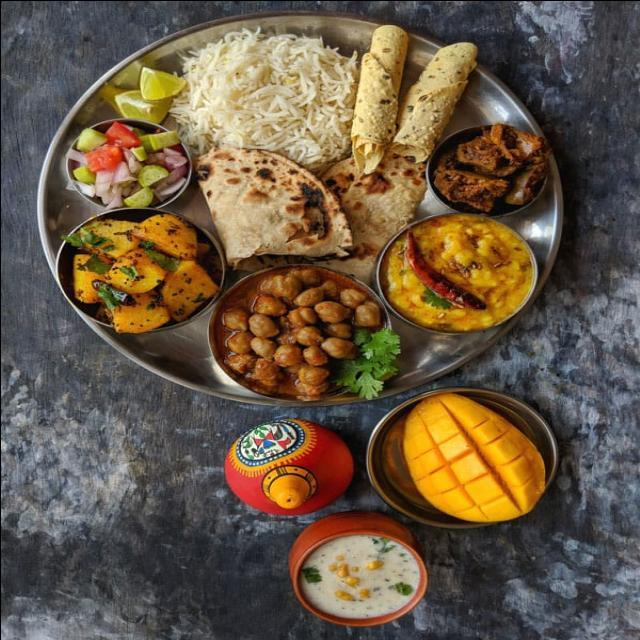dal: (380, 208, 542, 334)
rice: (180, 28, 358, 160)
roti: (188, 147, 357, 259)
sweet: (283, 519, 434, 629), (228, 414, 360, 526)
veg-fry: (372, 206, 539, 336), (54, 208, 219, 334), (419, 128, 559, 219)
